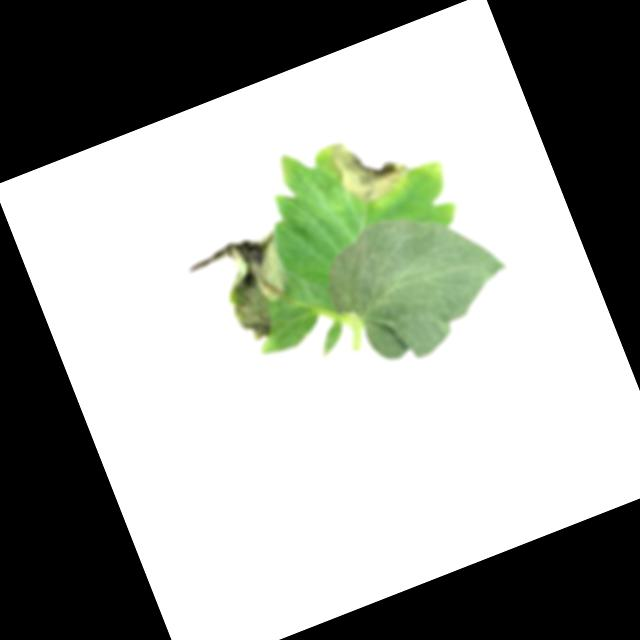Late_blight: (183, 225, 310, 358), (321, 121, 416, 215)
healthy: (308, 182, 528, 383)
